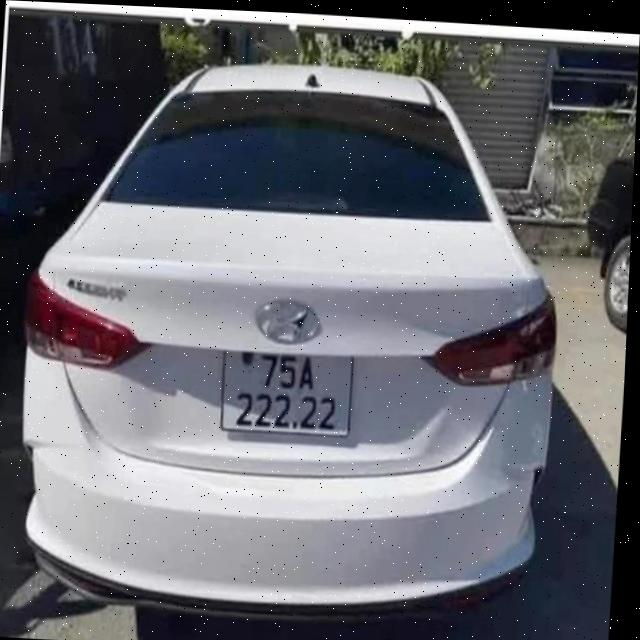car: (0, 26, 576, 640)
plate: (199, 339, 366, 449)
